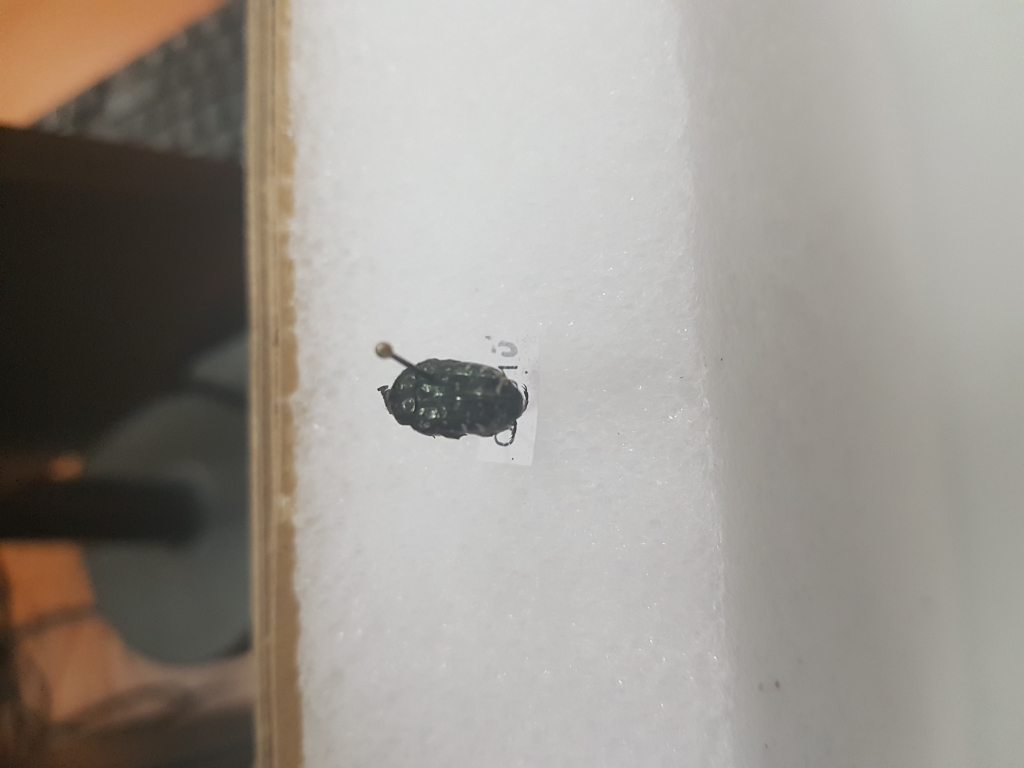Oxythyrea_albopicta: (383, 345, 534, 464)
